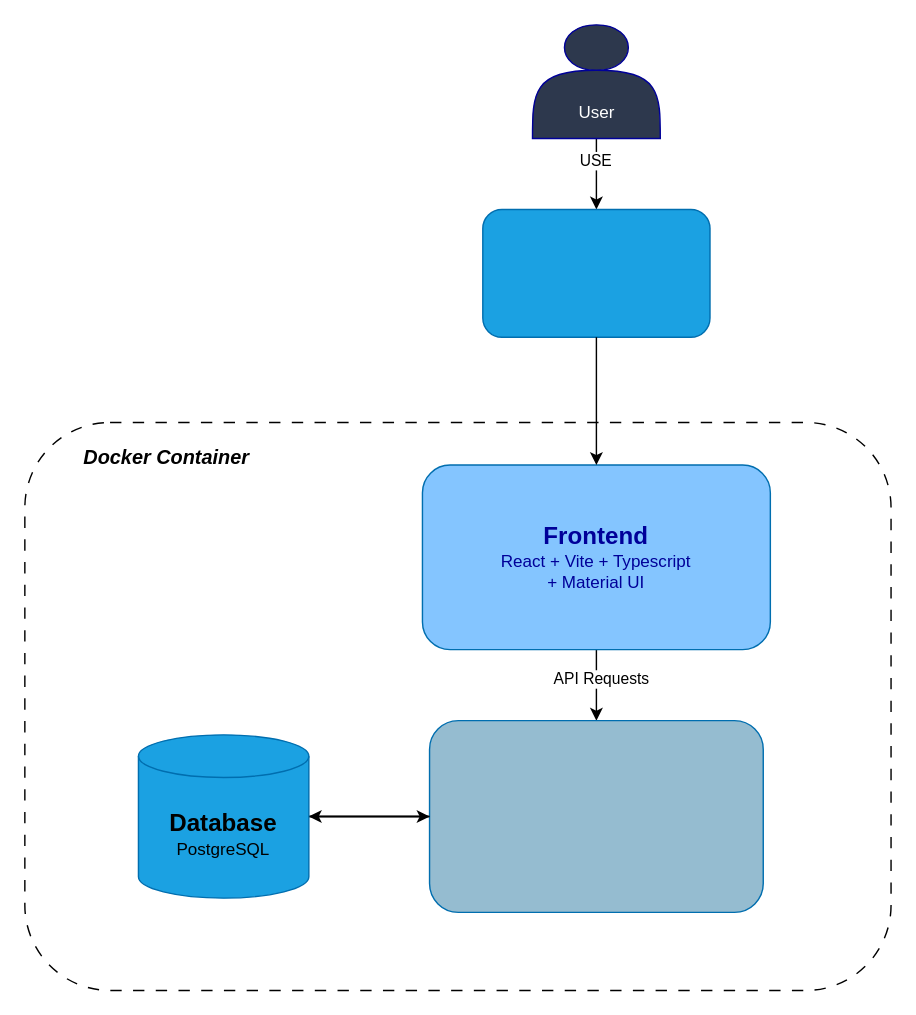
The diagram is 916 pixels wide and 1015 high, and some of its shapes have lost their labels. Each missing label, with the centre of its shape:
"Backend API Rest - NestJS" belongs at point 595,815.
"Web browser" belongs at point 595,272.
